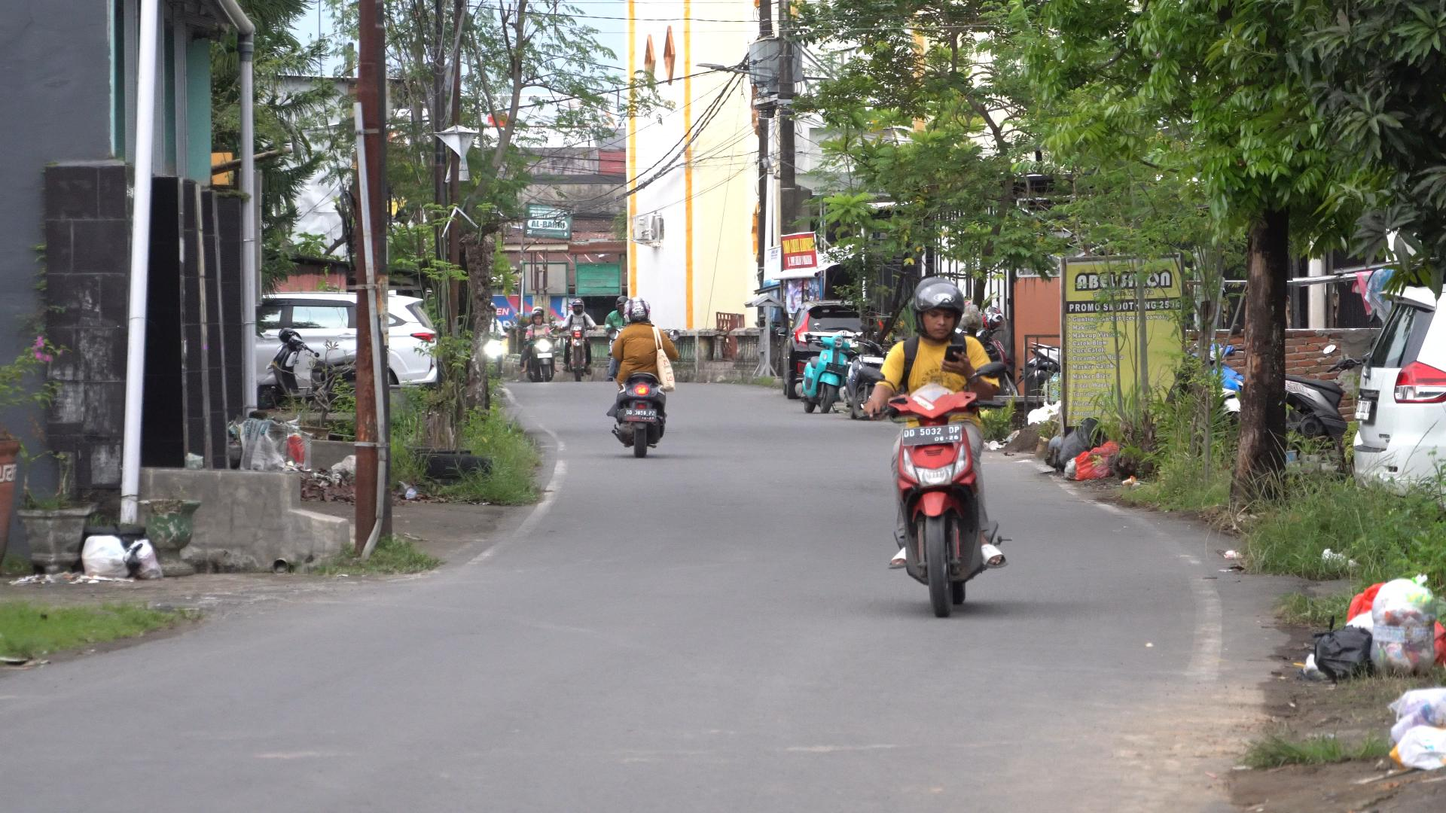number-plate: (899, 423, 967, 444)
